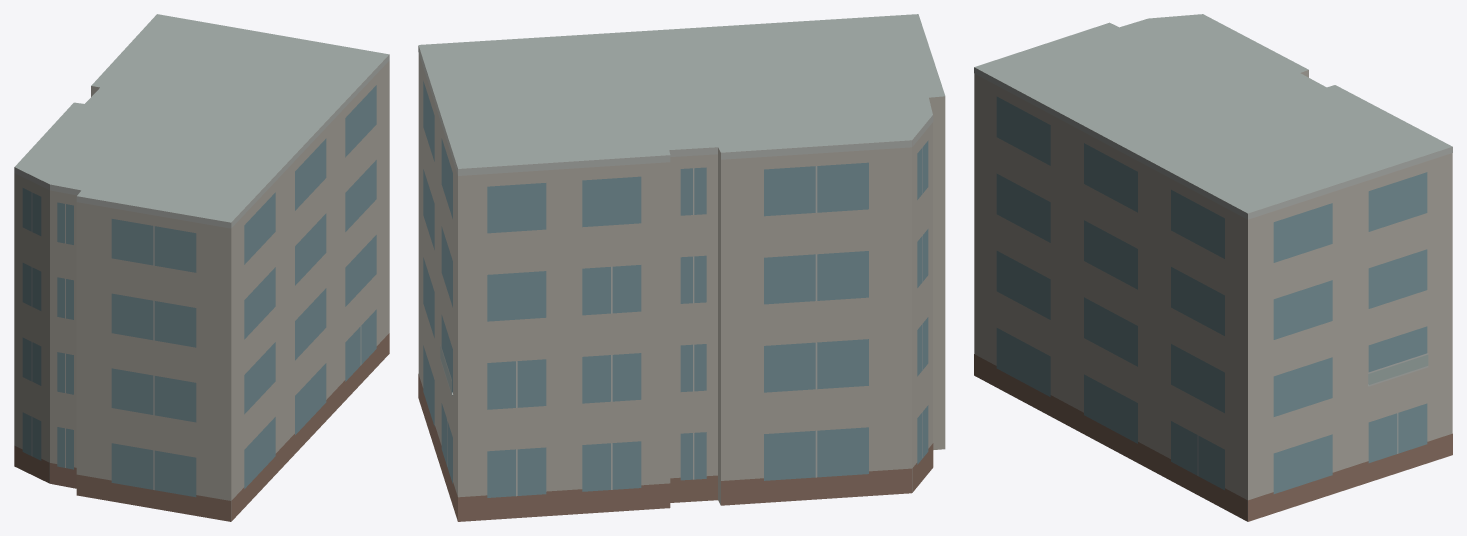
The model's file is survey-upis-33007461.glb.
3 views of the same model, side by side, from view 1: azimuth 30°, elevation 25°; view 2: azimuth 150°, elevation 25°; view 3: azimuth 270°, elevation 25° (orthographic). The views are drawn at different scales.
Visible parts, largest first — view 1: survey-upis-33007461.tmp; view 2: survey-upis-33007461.tmp; view 3: survey-upis-33007461.tmp.
Part boxes in pixels (x1,y1,x2,y2): survey-upis-33007461.tmp: (14, 14, 389, 521); survey-upis-33007461.tmp: (418, 14, 945, 521); survey-upis-33007461.tmp: (974, 14, 1452, 521).
Size of the model in its own units: 16.94 by 12.2 by 17.17.
